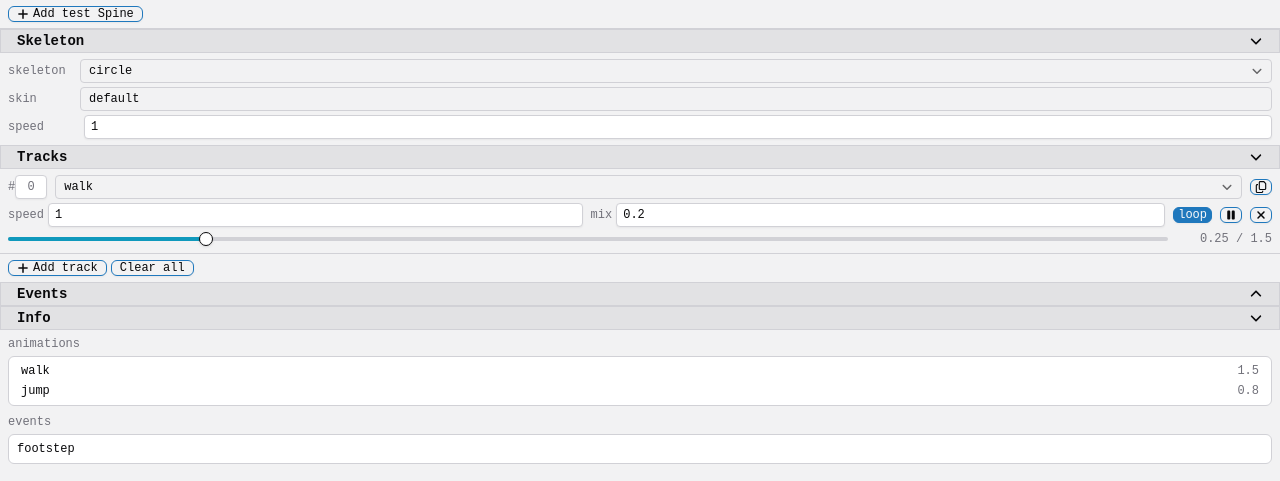
Test case: SpineSection › adds an empty tab without sending anything
The width and height of the screenshot is (1280, 481).
Click the button "Add test Spine": (75, 14) 8,6 -> 143,22
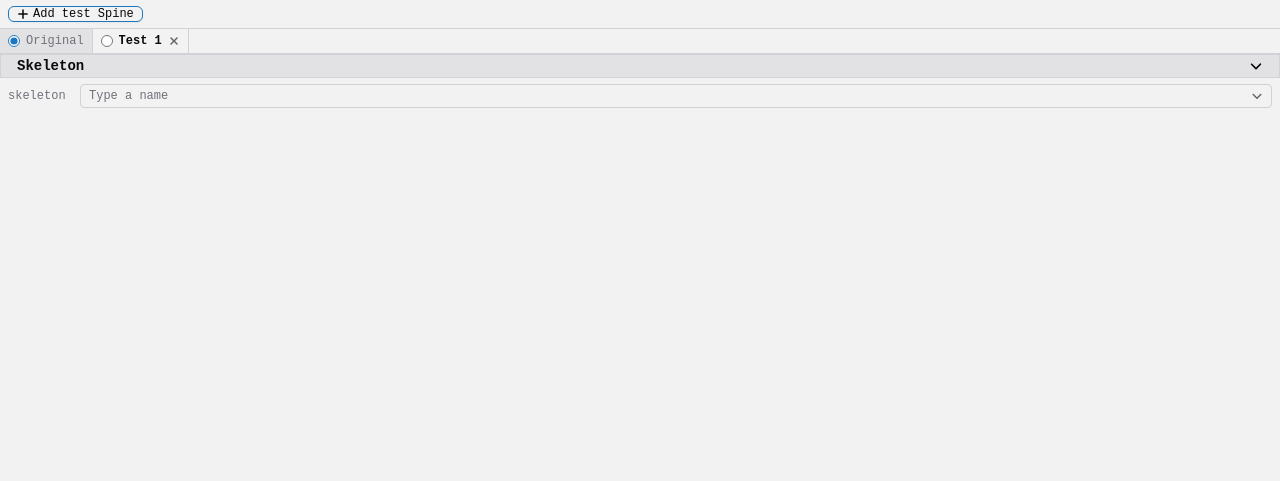
expect the number of radio buttons is 2: met, box 8,35 -> 20,47; 101,35 -> 113,47
